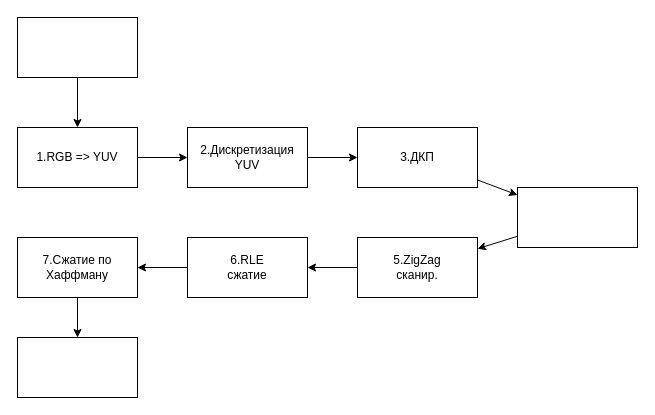
Some shapes in this 655 by 415 pixel diagram are drawn without their labels. The shapes that lost their labels are listed below. From the top down, each one's centre as x and y in pixels, then its label:
At point (77, 47): "RGB изображение".
At point (577, 217): "4.Квантирование".
At point (77, 367): "Сжатое изображение".
